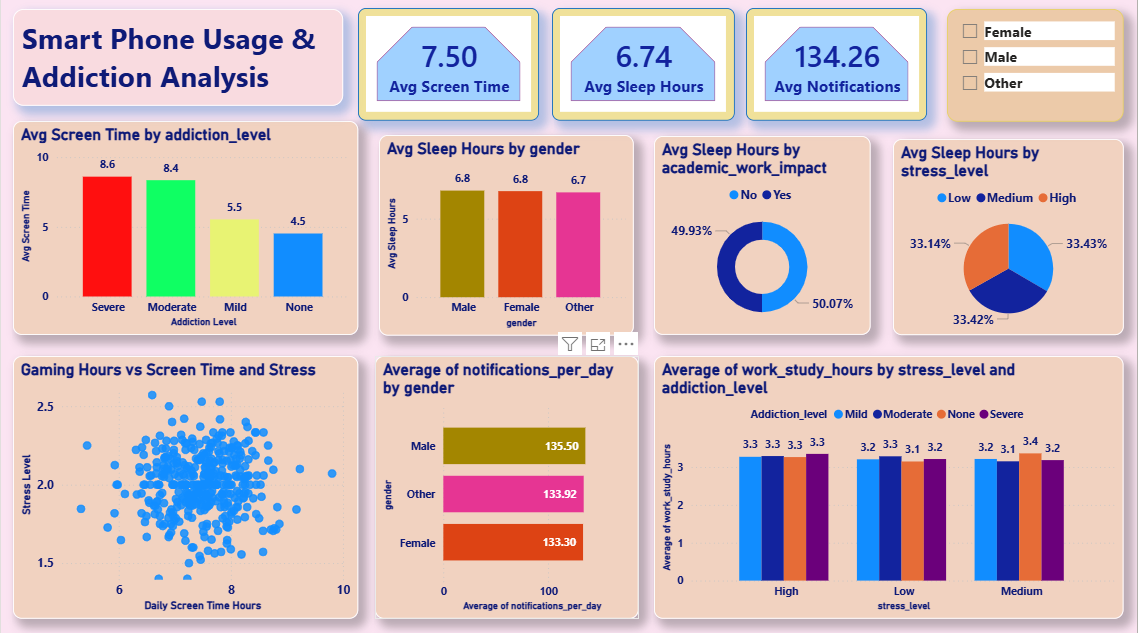

Layout of this report page (visuals, bound fields, positions):
{"tool":"powerbi","page":{"name":"Page 1","canvas":[1280,720],"ordinal":0},"visuals":[{"type":"cardVisual","fields":{"Data":["Smartphone_Usage.Avg Screen Time"]},"box":[401.8,11.5,204.5,126.7],"z":0},{"type":"cardVisual","fields":{"Data":["Smartphone_Usage.Avg Sleep Hours"]},"box":[620.6,11.5,205.9,126.7],"z":1000},{"type":"cardVisual","fields":{"Data":["Smartphone_Usage.Avg Notifications"]},"box":[839.5,11.5,204.5,126.7],"z":2000},{"type":"columnChart","fields":{"Category":["Smartphone_Usage.addiction_level"],"Y":["Smartphone_Usage.Avg Screen Time"]},"box":[13.5,139.1,388.8,240.7],"z":4000},{"type":"textbox","box":[13.5,12,372.3,109.2],"z":5000},{"type":"scatterChart","title":"Gaming Hours vs Screen Time and Stress","fields":{"Category":["Smartphone_Usage.gaming_hours"],"X":["Avg(Smartphone_Usage.daily_screen_time_hours)"],"Y":["Avg(Smartphone_Usage.Stress level Numeric)"]},"box":[13.5,403.7,388.8,296.1],"z":6000},{"type":"columnChart","fields":{"Category":["Smartphone_Usage.gender"],"Y":["Smartphone_Usage.Avg Sleep Hours"]},"box":[426.2,154,287.1,225.8],"z":7000},{"type":"donutChart","fields":{"Category":["Smartphone_Usage.academic_work_impact"],"Y":["Smartphone_Usage.Avg Sleep Hours"]},"box":[735.7,155.5,243.7,224.3],"z":8000},{"type":"pieChart","fields":{"Category":["Smartphone_Usage.stress_level"],"Y":["Smartphone_Usage.Avg Sleep Hours"]},"box":[1004.9,158.5,260.2,221.3],"z":9000},{"type":"clusteredBarChart","fields":{"Category":["Smartphone_Usage.gender"],"Y":["Avg(Smartphone_Usage.notifications_per_day)"]},"box":[421.4,403.4,297.5,296.3],"z":10000},{"type":"clusteredColumnChart","fields":{"Category":["Smartphone_Usage.stress_level"],"Series":["Smartphone_Usage.addiction_level"],"Y":["Avg(Smartphone_Usage.work_study_hours)"]},"box":[735.7,403.7,529.3,296.1],"z":11000},{"type":"slicer","fields":{"Values":["Smartphone_Usage.gender"]},"box":[1066.2,12,198.9,127.1],"z":11001}]}

Visuals, with their boxes in screenshot pixels (x1, y1, x2, y2), scaled from the page's 1280x720 canvas onto the 1138x633 screenshot:
cardVisual - Smartphone_Usage.Avg Screen Time: [x1=357, y1=10, x2=539, y2=122]
cardVisual - Smartphone_Usage.Avg Sleep Hours: [x1=552, y1=10, x2=735, y2=122]
cardVisual - Smartphone_Usage.Avg Notifications: [x1=746, y1=10, x2=928, y2=122]
columnChart - Smartphone_Usage.addiction_level x Smartphone_Usage.Avg Screen Time: [x1=12, y1=122, x2=358, y2=334]
textbox: [x1=12, y1=11, x2=343, y2=107]
"Gaming Hours vs Screen Time and Stress" scatterChart: [x1=12, y1=355, x2=358, y2=615]
columnChart - Smartphone_Usage.gender x Smartphone_Usage.Avg Sleep Hours: [x1=379, y1=135, x2=634, y2=334]
donutChart - Smartphone_Usage.academic_work_impact x Smartphone_Usage.Avg Sleep Hours: [x1=654, y1=137, x2=871, y2=334]
pieChart - Smartphone_Usage.stress_level x Smartphone_Usage.Avg Sleep Hours: [x1=893, y1=139, x2=1125, y2=334]
clusteredBarChart - Smartphone_Usage.gender x Avg(Smartphone_Usage.notifications_per_day): [x1=375, y1=355, x2=639, y2=615]
clusteredColumnChart - Smartphone_Usage.stress_level x Smartphone_Usage.addiction_level: [x1=654, y1=355, x2=1125, y2=615]
slicer - Smartphone_Usage.gender: [x1=948, y1=11, x2=1125, y2=122]
